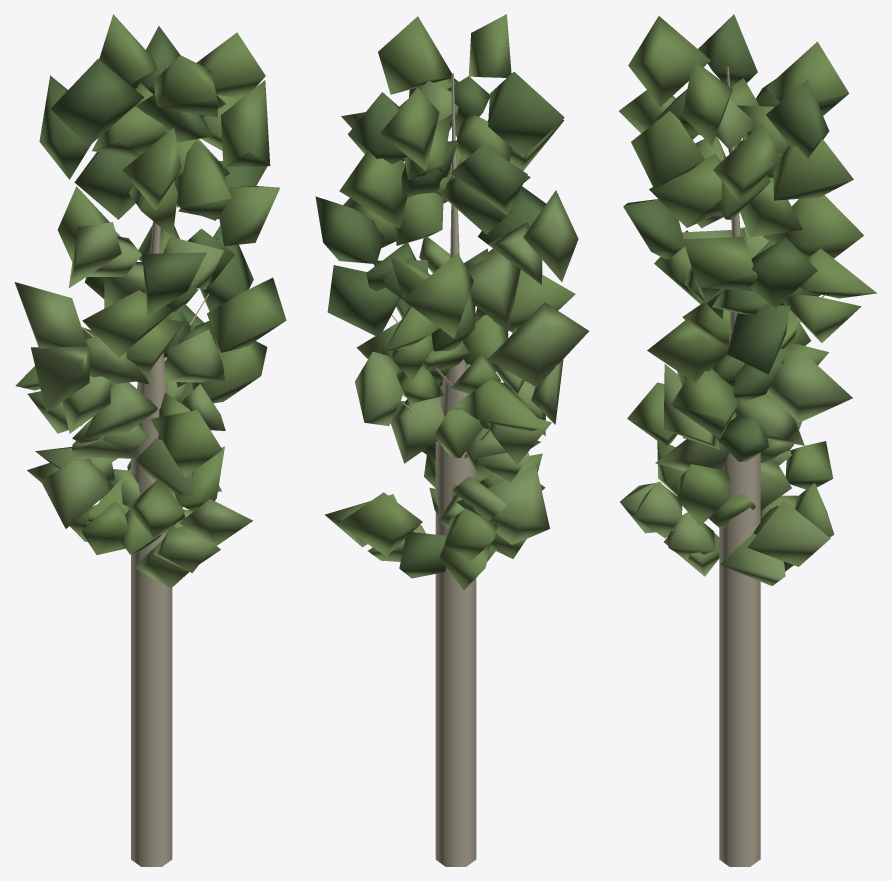
The model's file is birch-b.glb.
3 renders of one model, left to right at view 1: azimuth 30°, elevation 25°; view 2: azimuth 150°, elevation 25°; view 3: azimuth 270°, elevation 25°, orthographic. The views are drawn at different scales.
Bounding box in the file's own units: 3.02 × 9.4 × 2.63.
